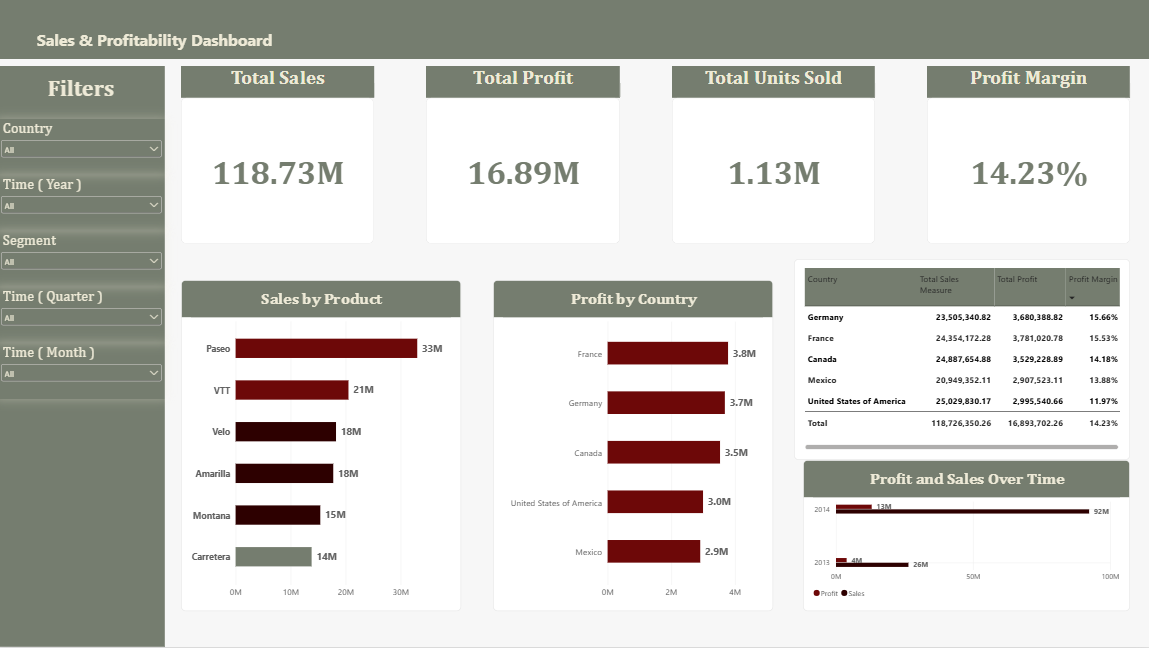

This screenshot's page, from the dashboard's own definition file:
{"tool":"powerbi","page":{"name":"Project 1","canvas":[1920,1080],"ordinal":0},"visuals":[{"type":"shape","box":[0,111.7,278.3,968.3],"z":0},{"type":"shape","box":[0,0,1920,100],"z":1000},{"type":"textbox","box":[36.7,50,448.3,50],"z":2000},{"type":"textbox","box":[15,126.7,246.7,56.7],"z":3000},{"type":"barChart","fields":{"Category":["financials.Product"],"Y":["Sum(financials. Sales)"]},"box":[305,468.3,466.7,551.7],"z":4000},{"type":"clusteredBarChart","title":"Profit and Sales Over Time ","fields":{"Category":["financials.Date.Variation.Date Hierarchy.Year","financials.Date.Variation.Date Hierarchy.Quarter","financials.Date.Variation.Date Hierarchy.Month","financials.Date.Variation.Date Hierarchy.Day"],"Y":["Sum(financials.Profit)","Sum(financials. Sales)"]},"box":[1341.7,768.3,545,251.7],"z":5000},{"type":"cardVisual","title":"Total Profit","fields":{"Data":["financials.Total Profit"]},"box":[713.3,111.7,323.3,296.7],"z":6000},{"type":"cardVisual","title":"Total Units Sold","fields":{"Data":["financials.Total Units Sold"]},"box":[1123.3,111.7,338.3,296.7],"z":7000},{"type":"slicer","fields":{"Values":["financials.Country"]},"box":[0,200,278.3,93.3],"z":8000},{"type":"slicer","fields":{"Values":["financials.Date.Variation.Date Hierarchy.Year"]},"box":[0,293.3,278.3,93.3],"z":9000},{"type":"slicer","fields":{"Values":["financials.Segment"]},"box":[0,386.7,278.3,93.3],"z":10000},{"type":"slicer","fields":{"Values":["financials.Date.Variation.Date Hierarchy.Quarter"]},"box":[0,480,278.3,93.3],"z":11000},{"type":"slicer","fields":{"Values":["financials.Month Name"]},"box":[0,573.3,278.3,93.3],"z":12000},{"type":"cardVisual","title":"Total Sales","fields":{"Data":["financials.Total Sales Measure"]},"box":[305,111.7,321.7,296.7],"z":13000},{"type":"barChart","fields":{"Category":["financials.Country"],"Y":["Sum(financials.Profit)"]},"box":[825,468.3,466.7,551.7],"z":14000},{"type":"tableEx","fields":{"Values":["financials.Country","financials.Total Sales Measure","financials.Total Profit","financials.Profit Margin"]},"box":[1326.7,433.3,560,335],"z":15000},{"type":"cardVisual","title":"Profit Margin","fields":{"Data":["financials.Profit Margin"]},"box":[1548.3,111.7,338.3,296.7],"z":16000}]}

Visuals, with their boxes in screenshot pixels (x1, y1, x2, y2), scaled from the page's 1920x1080 canvas onto the 1149x648 screenshot:
shape: l=0, t=67, r=167, b=647
shape: l=0, t=0, r=1148, b=60
textbox: l=22, t=30, r=290, b=60
textbox: l=9, t=76, r=157, b=110
barChart - financials.Product x Sum(financials. Sales): l=183, t=281, r=462, b=612
"Profit and Sales Over Time " clusteredBarChart: l=803, t=461, r=1129, b=612
"Total Profit" cardVisual: l=427, t=67, r=620, b=245
"Total Units Sold" cardVisual: l=672, t=67, r=875, b=245
slicer - financials.Country: l=0, t=120, r=167, b=176
slicer - financials.Date.Variation.Date Hierarchy.Year: l=0, t=176, r=167, b=232
slicer - financials.Segment: l=0, t=232, r=167, b=288
slicer - financials.Date.Variation.Date Hierarchy.Quarter: l=0, t=288, r=167, b=344
slicer - financials.Month Name: l=0, t=344, r=167, b=400
"Total Sales" cardVisual: l=183, t=67, r=375, b=245
barChart - financials.Country x Sum(financials.Profit): l=494, t=281, r=773, b=612
tableEx - financials.Country x financials.Total Sales Measure: l=794, t=260, r=1129, b=461
"Profit Margin" cardVisual: l=927, t=67, r=1129, b=245
